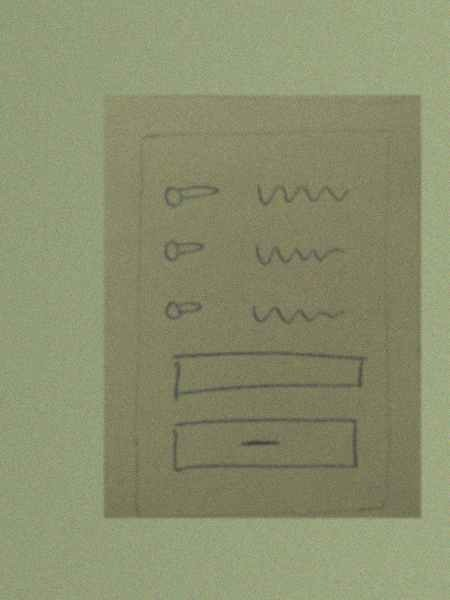button: (165, 413, 365, 476)
switch: (159, 176, 224, 214), (160, 236, 213, 268), (160, 293, 211, 325)
text: (246, 171, 356, 214), (246, 293, 353, 336), (248, 236, 349, 269)
text_input: (165, 345, 369, 401)
